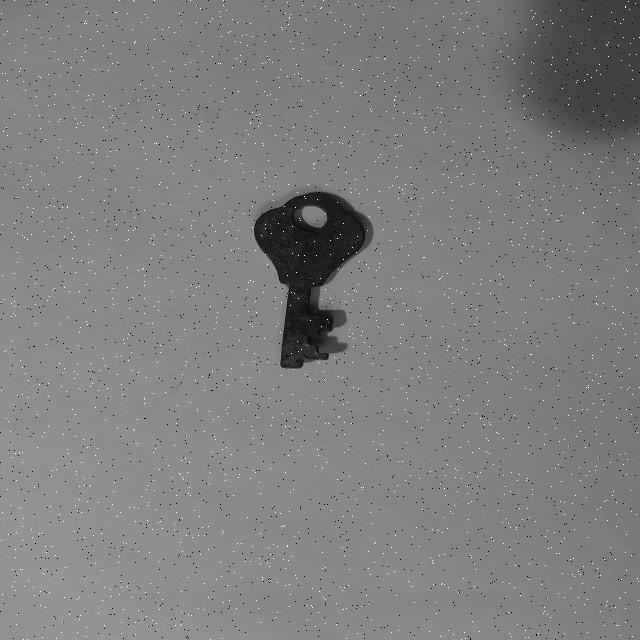key: (255, 192, 365, 369)
